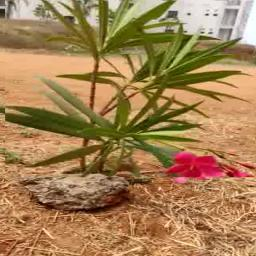OLEANDER: (5, 0, 255, 178)
